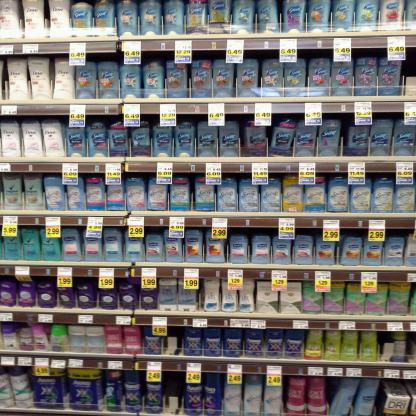Void: (161, 376, 187, 412)
